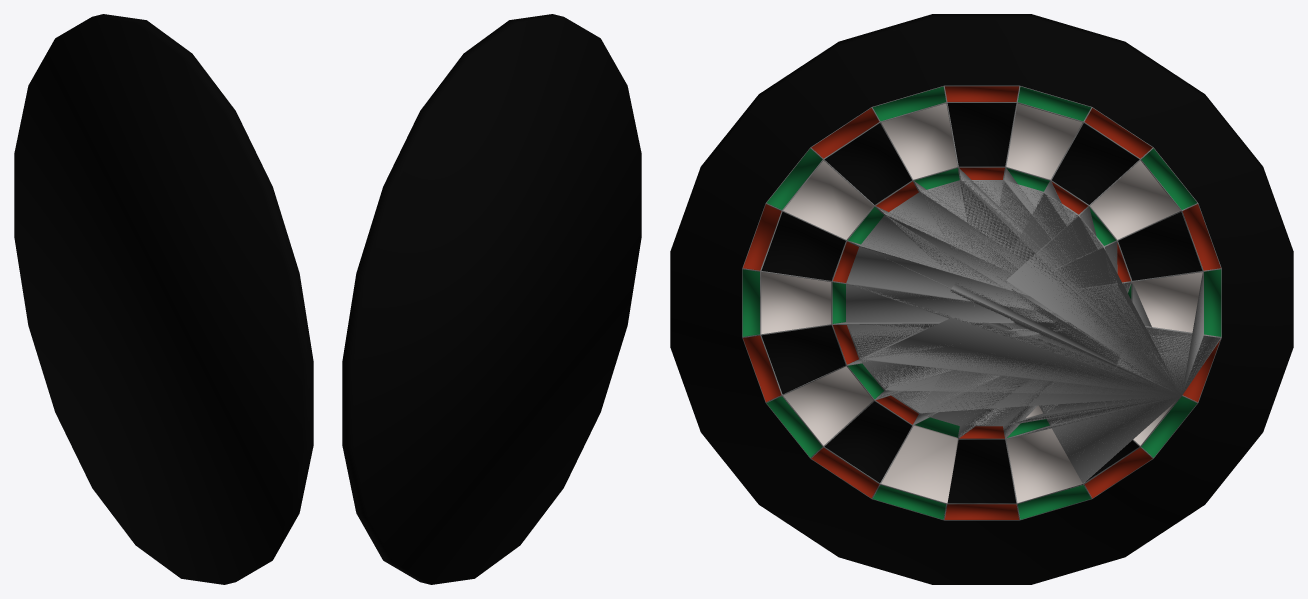
Rendered from JeuFlechette.fbx.
The picture shows the model from 3 angles, left to right: view 1: azimuth 30°, elevation 25°; view 2: azimuth 150°, elevation 25°; view 3: azimuth 270°, elevation 25°; orthographic projection. The views are drawn at different scales.
Visible parts, largest first — view 1: JeuFlechette; view 2: JeuFlechette; view 3: JeuFlechette.
Boxes of the visible parts, x1=… form: JeuFlechette: x1=14, y1=14, x2=313, y2=584; JeuFlechette: x1=342, y1=14, x2=641, y2=584; JeuFlechette: x1=670, y1=14, x2=1293, y2=584.
Bounding box in the file's own units: 4.97 × 198 × 198.
